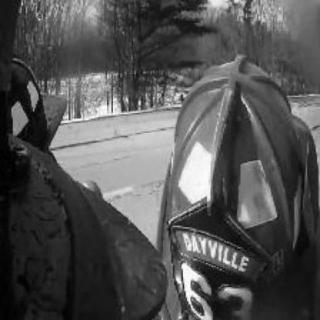other: (150, 57, 308, 273)
